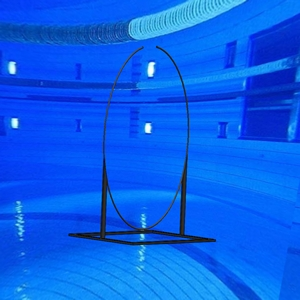circle: (67, 45, 217, 246)
